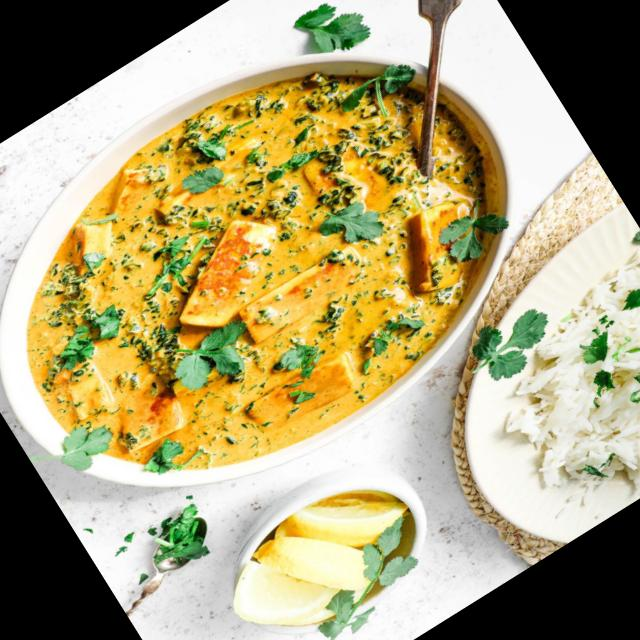rice: (549, 276, 640, 465)
